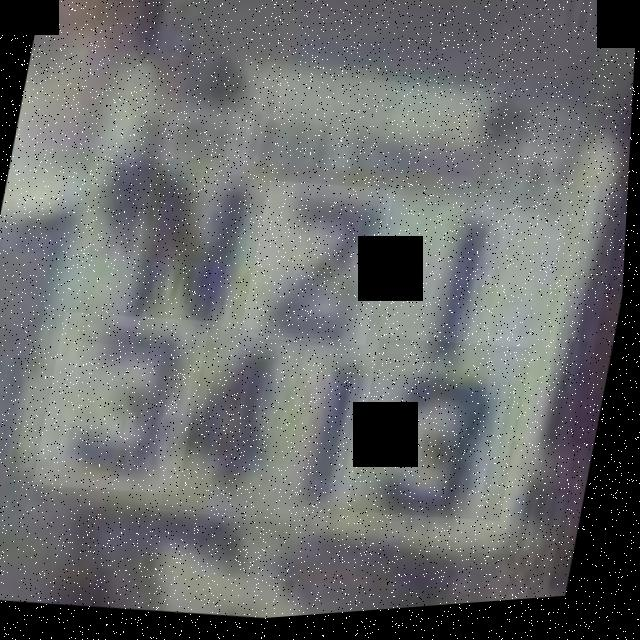1: (284, 341, 414, 527)
3: (352, 335, 538, 539), (37, 304, 215, 506)
4: (165, 321, 313, 529)
N: (75, 160, 254, 364)
Z: (243, 178, 398, 358)
